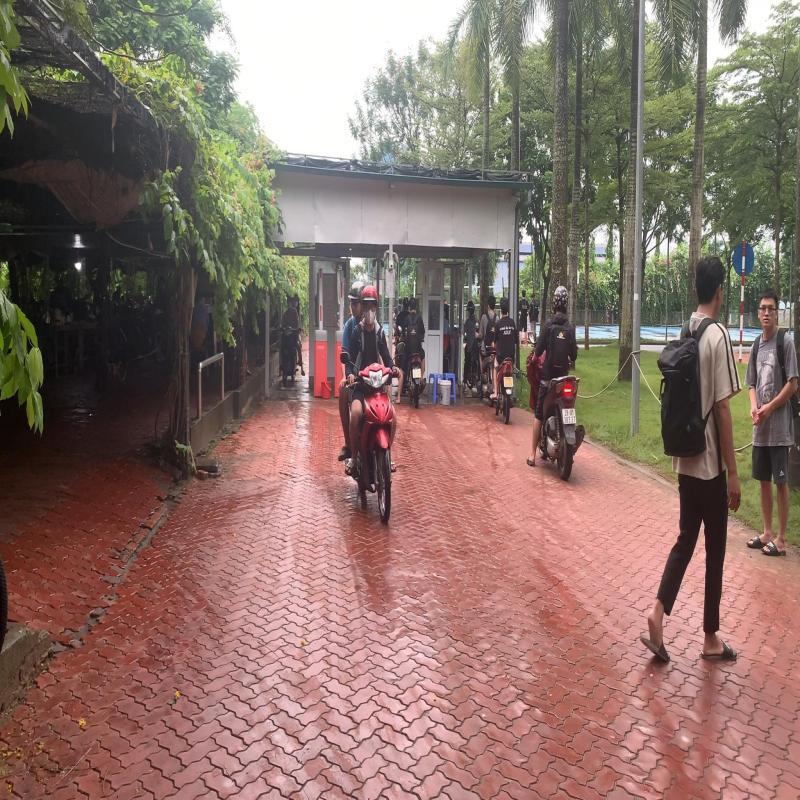nohelmet: (500, 295, 510, 317), (488, 294, 496, 312)
